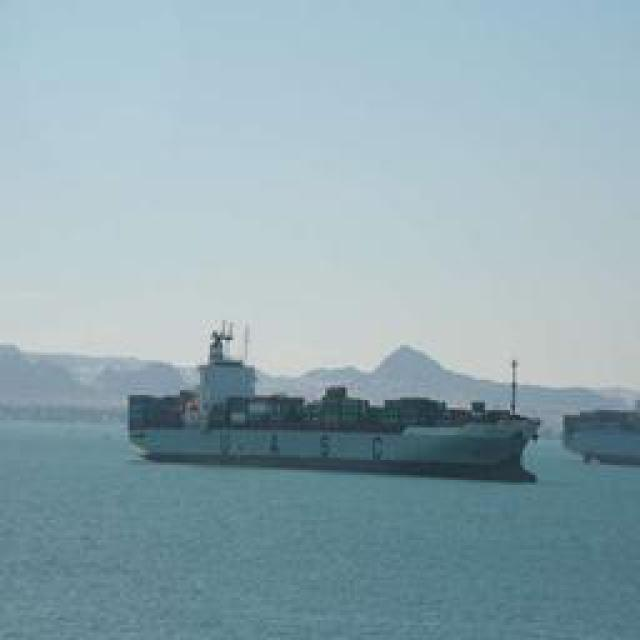Ship: (133, 356, 538, 476)
